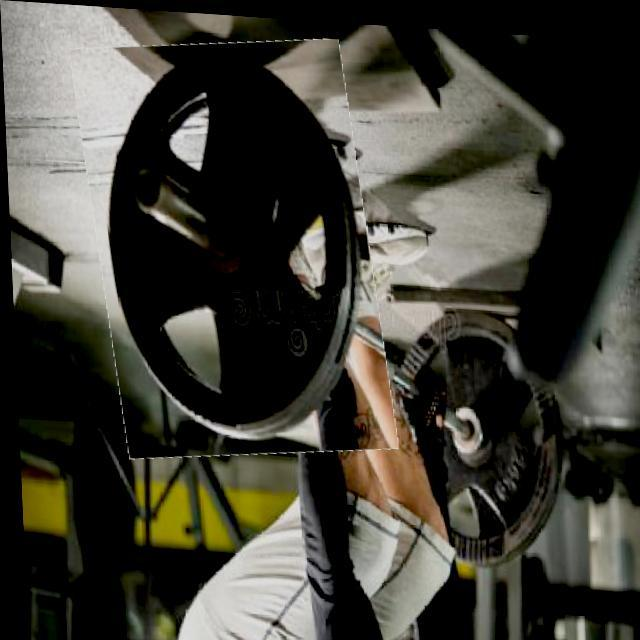barbell: (78, 29, 386, 466)
